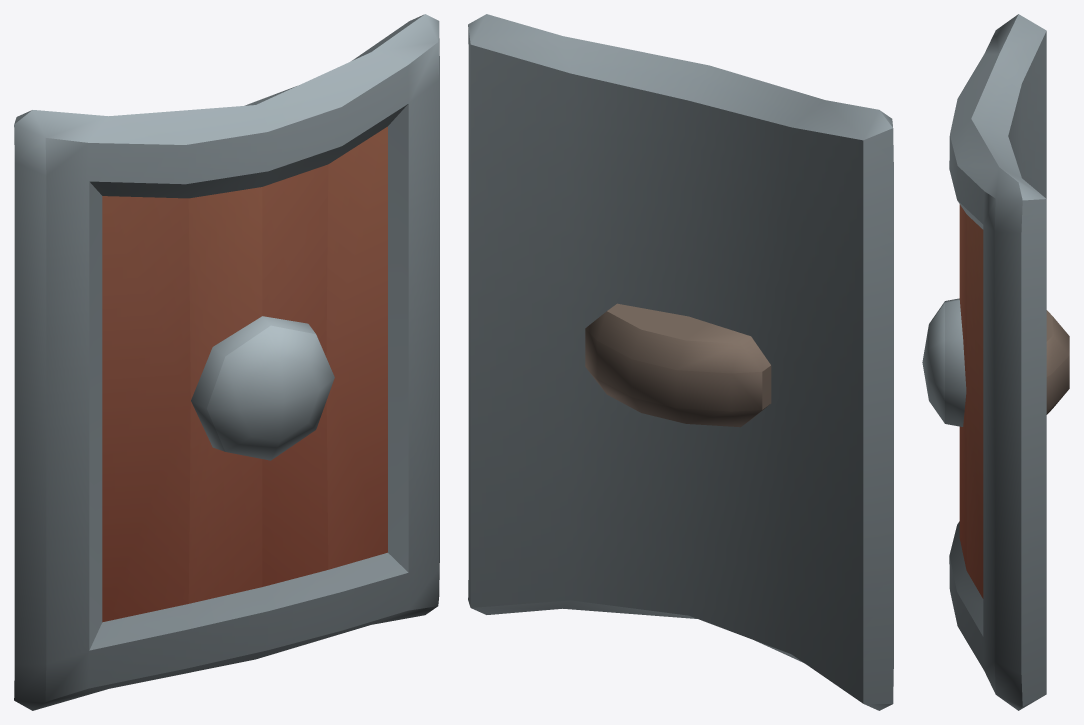
File: shield_square.glb
The picture shows the model from 3 angles, left to right: view 1: azimuth 30°, elevation 25°; view 2: azimuth 150°, elevation 25°; view 3: azimuth 270°, elevation 25°; orthographic projection. The views are drawn at different scales.
Bounding box in the file's own units: 0.8826 × 1.19 × 0.3011.
Materials: 1 (1 with a texture image).
